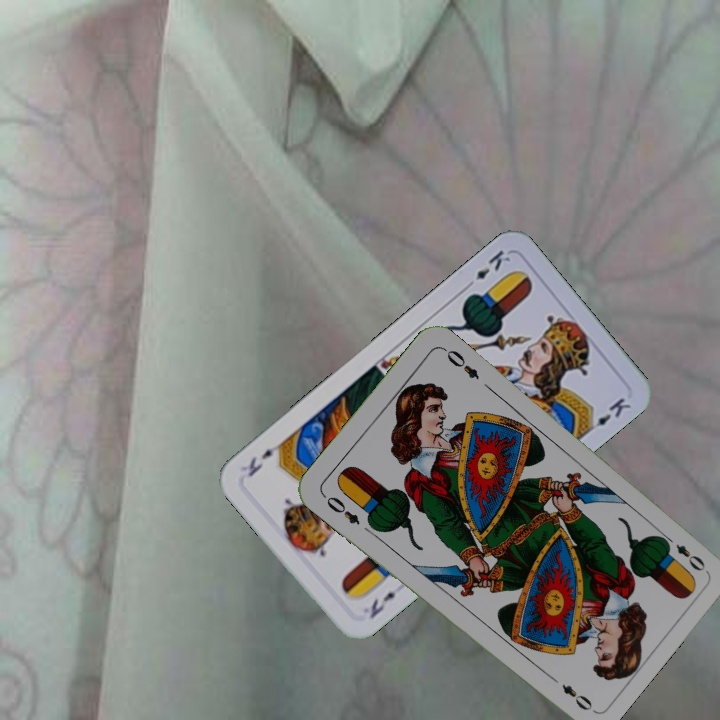EK: (461, 246, 513, 292), (365, 588, 399, 622)
EO: (658, 530, 709, 574), (318, 490, 363, 528)
